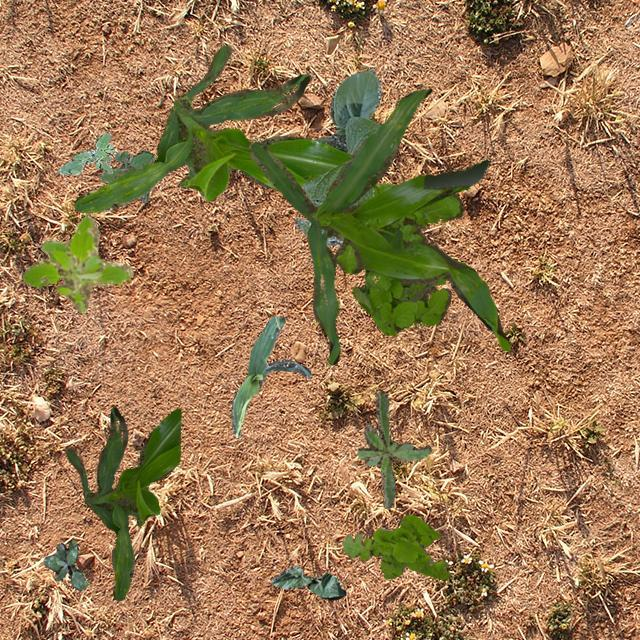crop: (248, 88, 510, 364), (73, 45, 349, 212), (65, 406, 179, 600), (300, 68, 382, 205), (230, 314, 310, 436), (270, 564, 344, 600)
weed: (318, 182, 462, 336), (22, 214, 132, 312), (356, 390, 431, 508), (342, 514, 449, 578), (98, 150, 154, 202), (56, 132, 114, 174), (294, 196, 342, 244), (42, 540, 86, 590)
